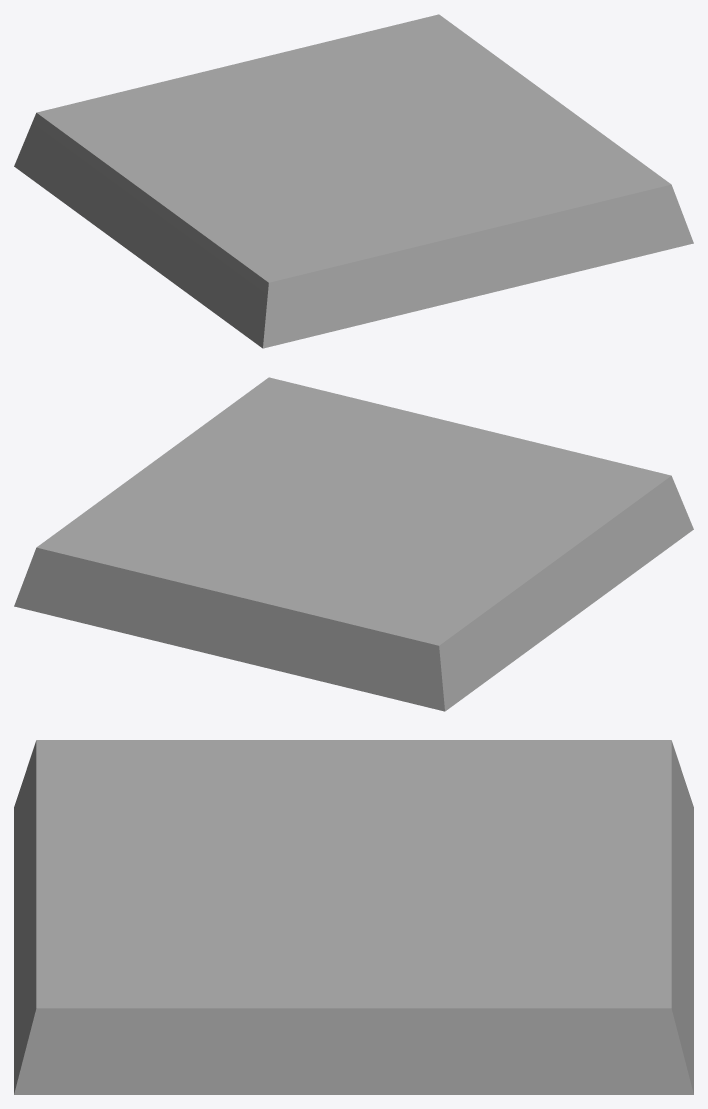
Rendered from Rock_Tile_m_01.fbx.
3 views of the same model, one above another, from view 1: azimuth 30°, elevation 25°; view 2: azimuth 150°, elevation 25°; view 3: azimuth 270°, elevation 25° (orthographic). The views are drawn at different scales.
Parts seen in each view (by area): view 1: Rock_Tile_m_01; view 2: Rock_Tile_m_01; view 3: Rock_Tile_m_01.
Boxes of the visible parts, x1,y1,x2,y2 form: Rock_Tile_m_01: [14, 14, 693, 348]; Rock_Tile_m_01: [14, 377, 693, 711]; Rock_Tile_m_01: [14, 740, 693, 1094].
Bounding box in the file's own units: 40 × 5 × 40.
